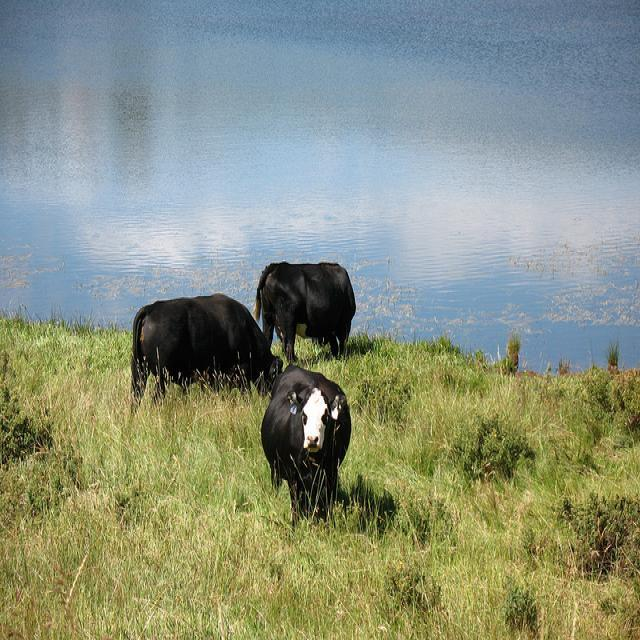cow: (131, 293, 278, 400), (259, 364, 347, 523), (251, 260, 355, 359)
